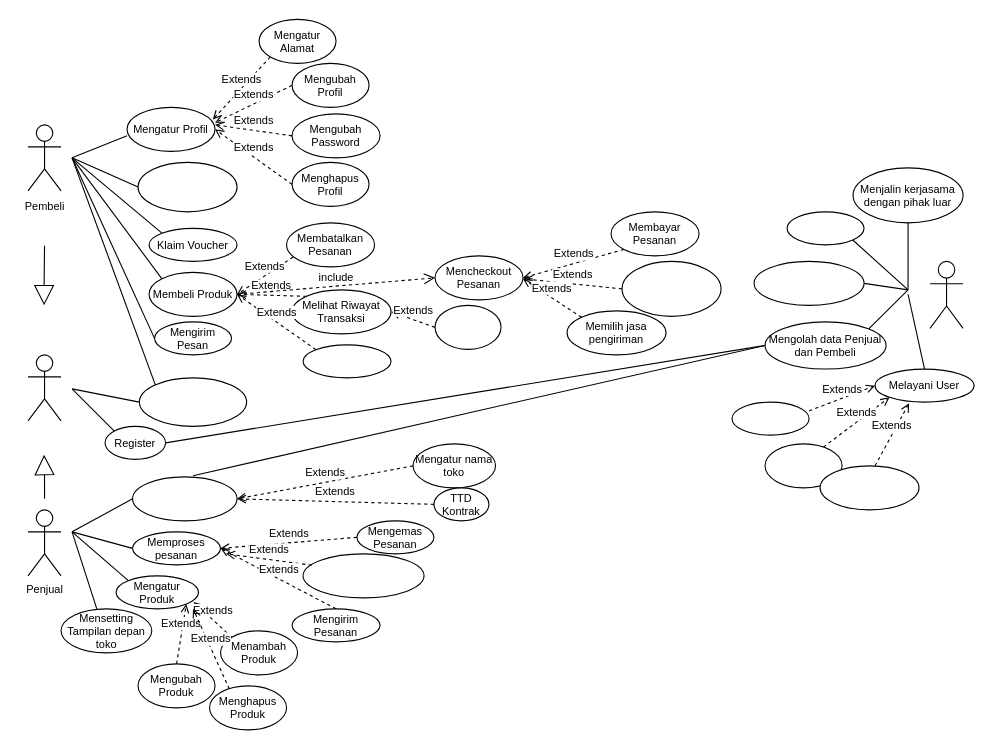
Some shapes in this 993 by 749 pixel diagram are drawn without their labels. The centre of each missing label's shape, as x and y in pixels:
"Admin" belongs at [946,294].
"Cek Status Pengiriman" belongs at [467,326].
"Konfirmasi Pembatalan Pesanan" belongs at [363,575].
"Melihat & mencari produk" belongs at [192,401].
"Memasukkan Produk ke Chart" belongs at [187,186].
"Memasukkan total barang" belongs at [671,288].
"Membantu Menyelesaikan kendala" belongs at [869,487].
"Memberikan Review" belongs at [346,361].
"Membuat Laporan" belongs at [825,228].
"Mendaftar Sebagai Penjual" belongs at [184,498].
"Menerima Keluhan" belongs at [770,418].
"Menjamin Keamanan Transaksi" belongs at [808,282].
"Menjelaskan Informasi" belongs at [803,465].
"Pengguna" belongs at [44,387].
